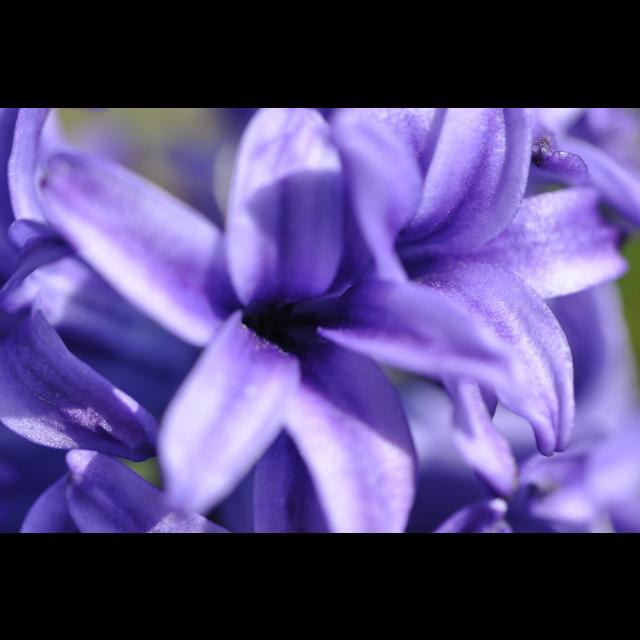Flower: (0, 108, 640, 522)
